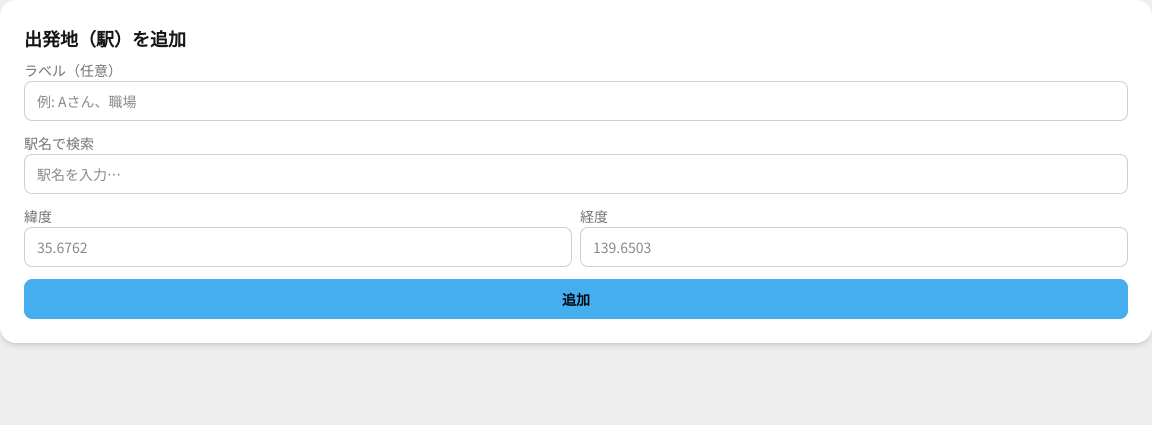
Test: LocationForm › coordinate edit clears station › should clear selected station when longitude is edited
The width and height of the screenshot is (1152, 425).
Type "東京" into the field named "駅名検索".
click(576, 174); type("東京")  # box left=24, top=154, right=1128, bottom=194
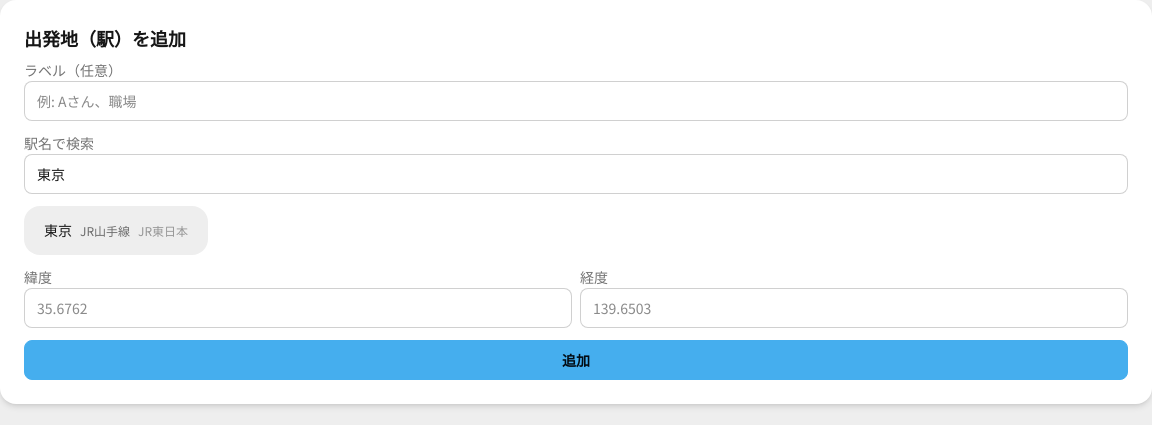
Click the text "東京".
click(58, 230)  # box left=44, top=220, right=72, bottom=241
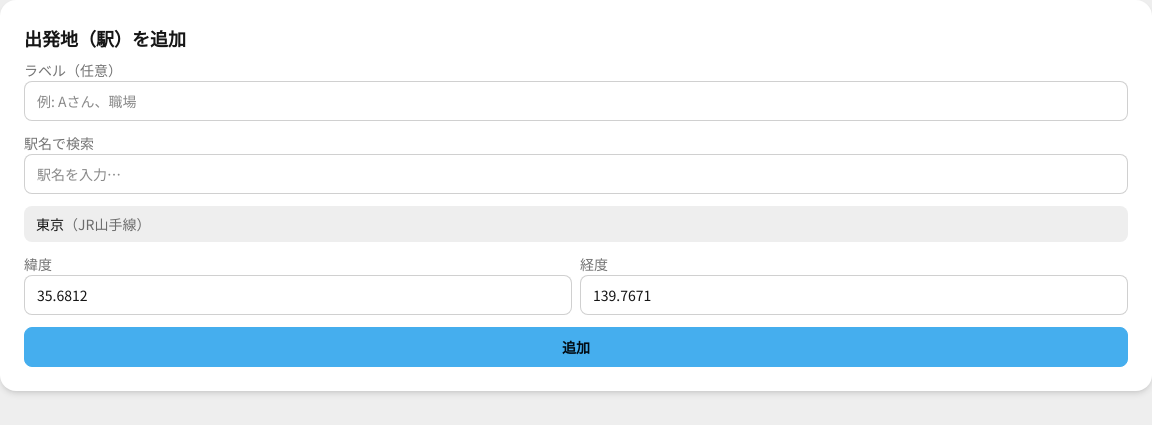
Now the element with test id "selected-station" is shown, box left=24, top=206, right=1128, bottom=242
Replace the text in the number field labelled "経度" with "140.0" at point(854, 295), box left=580, top=275, right=1128, bottom=315
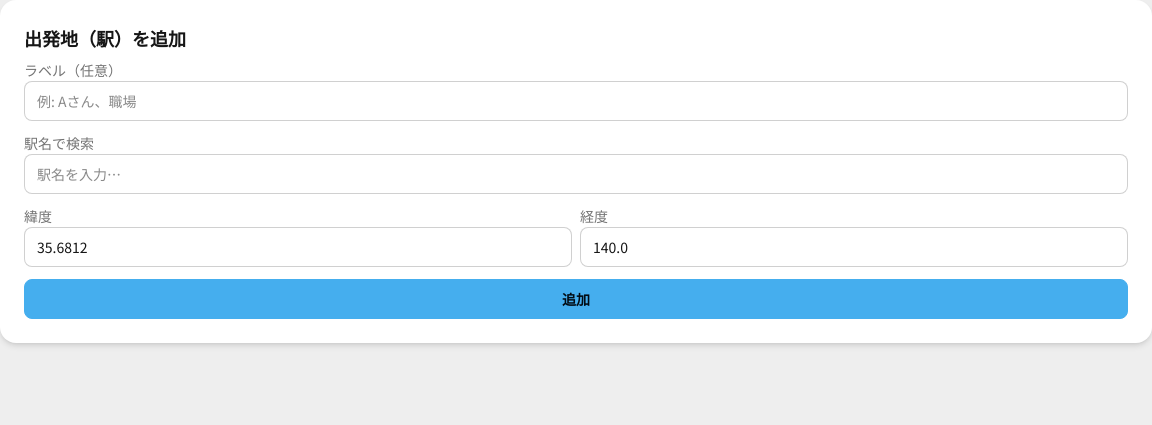
Now the element with test id "selected-station" is gone
